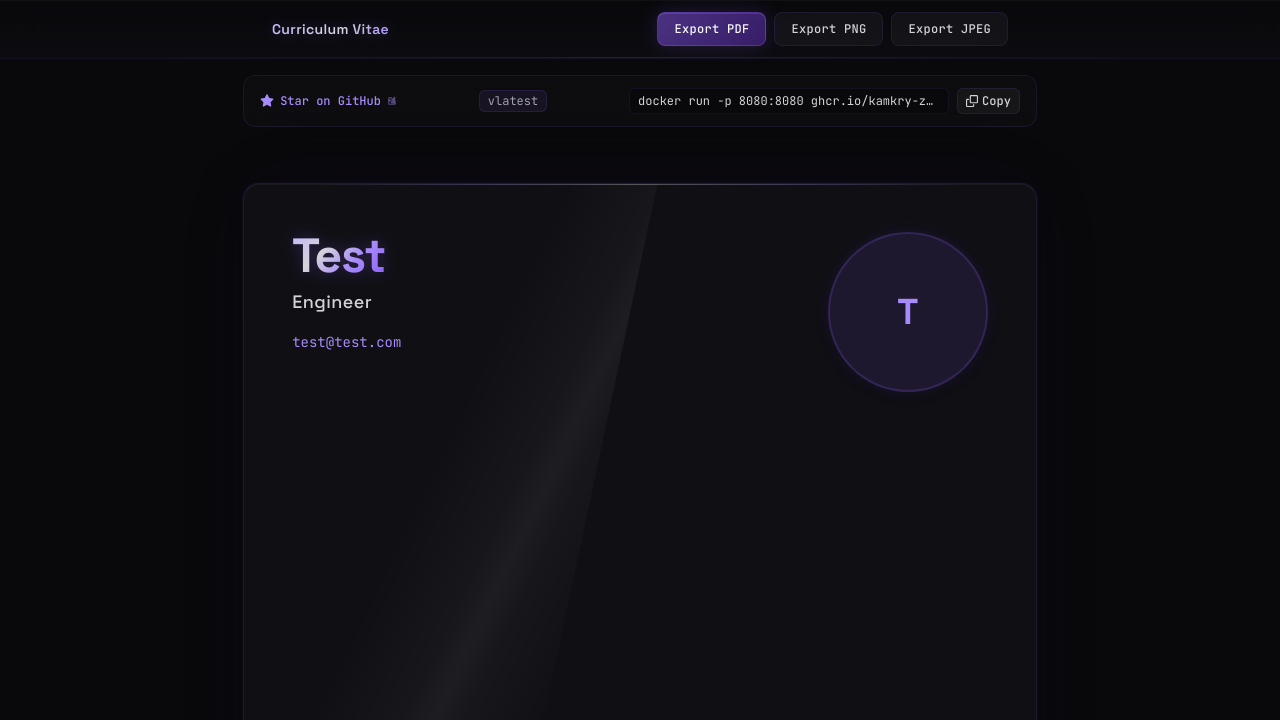
Scenario: App › clears a previous error on the next export attempt
Step 1. Click the button "Export PDF" → (712, 29), box [658,12,766,46]
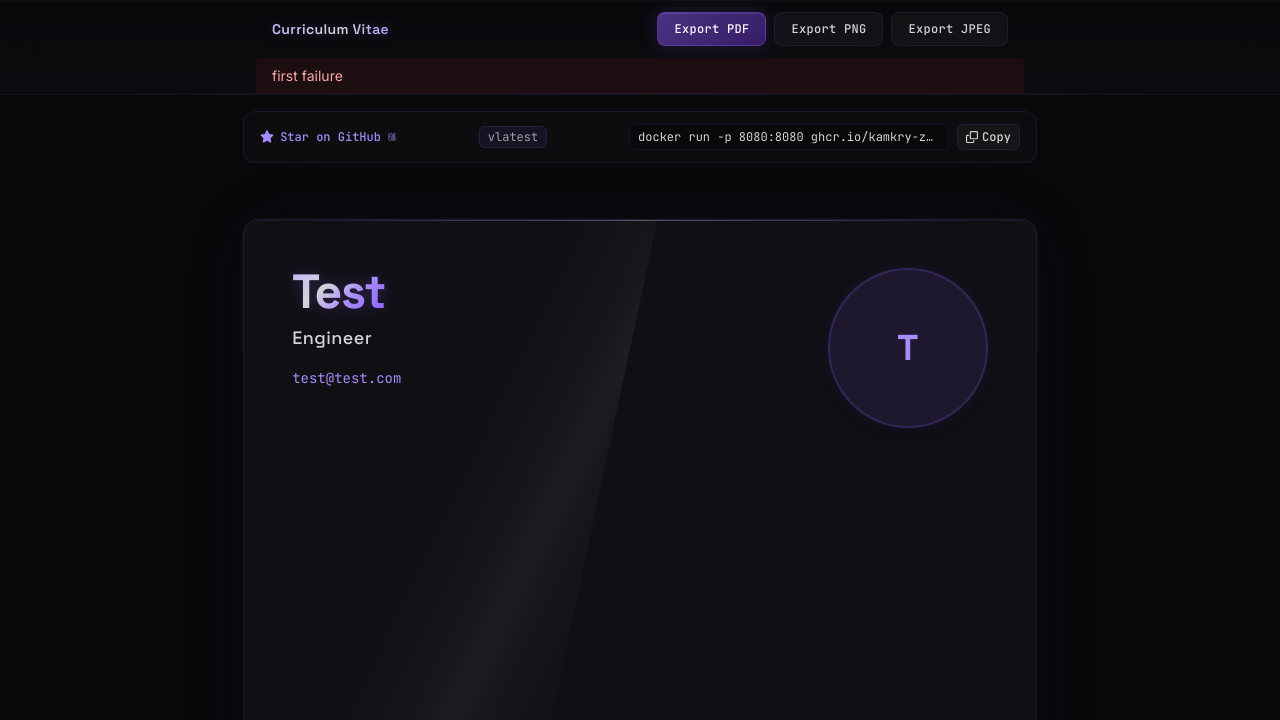
Check: the text "first failure" is shown, box [256,58,1024,94]
Step 2. Click the button "Export PNG" → (829, 29), box [774,12,884,46]
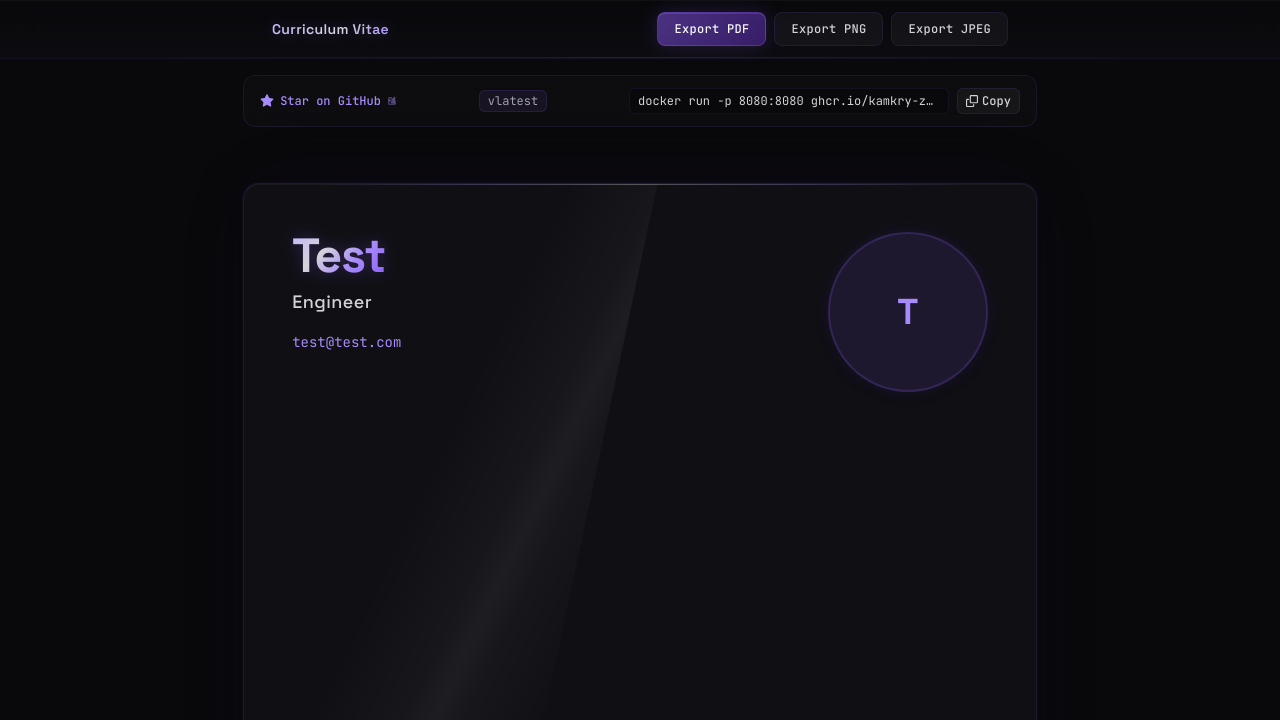
Check: the text "first failure" is gone
